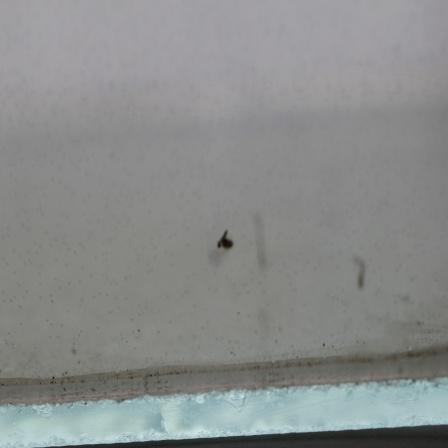Jentik-Nyamuk: (212, 226, 237, 256)
